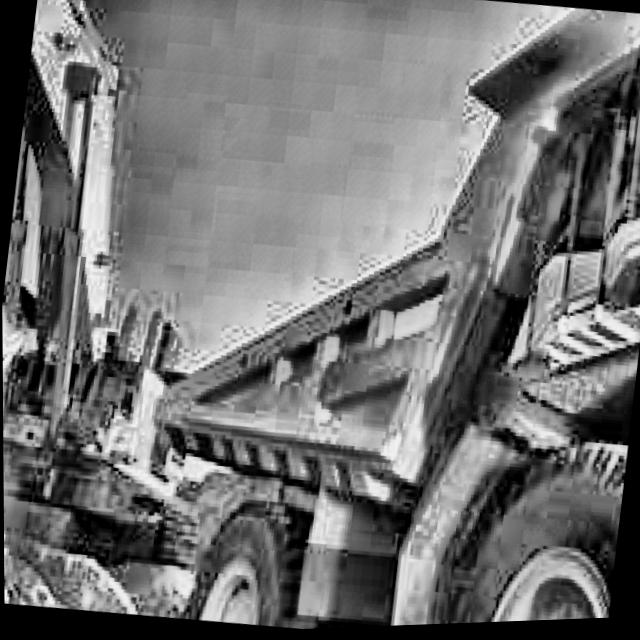dump_truck: (116, 0, 640, 637)
